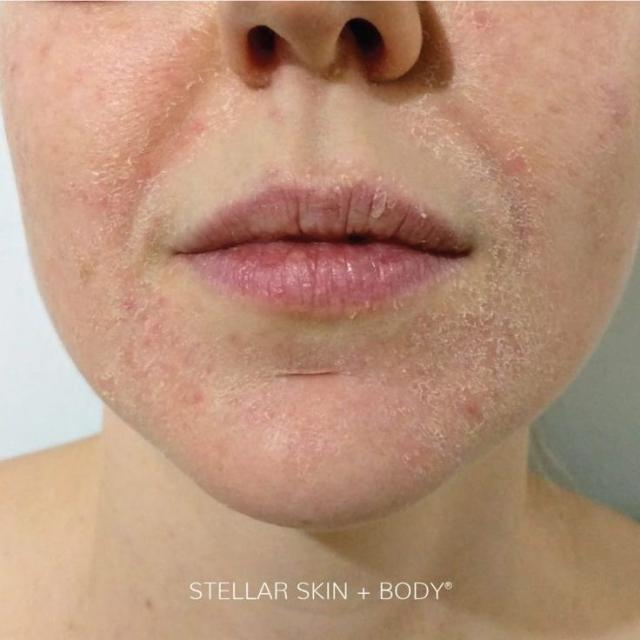Dry-Skin: (476, 289, 602, 346), (485, 153, 558, 228), (75, 196, 132, 288), (406, 89, 490, 150), (299, 388, 371, 449), (146, 337, 202, 414), (570, 98, 635, 164), (68, 78, 137, 139), (398, 369, 466, 428), (490, 30, 541, 64)
